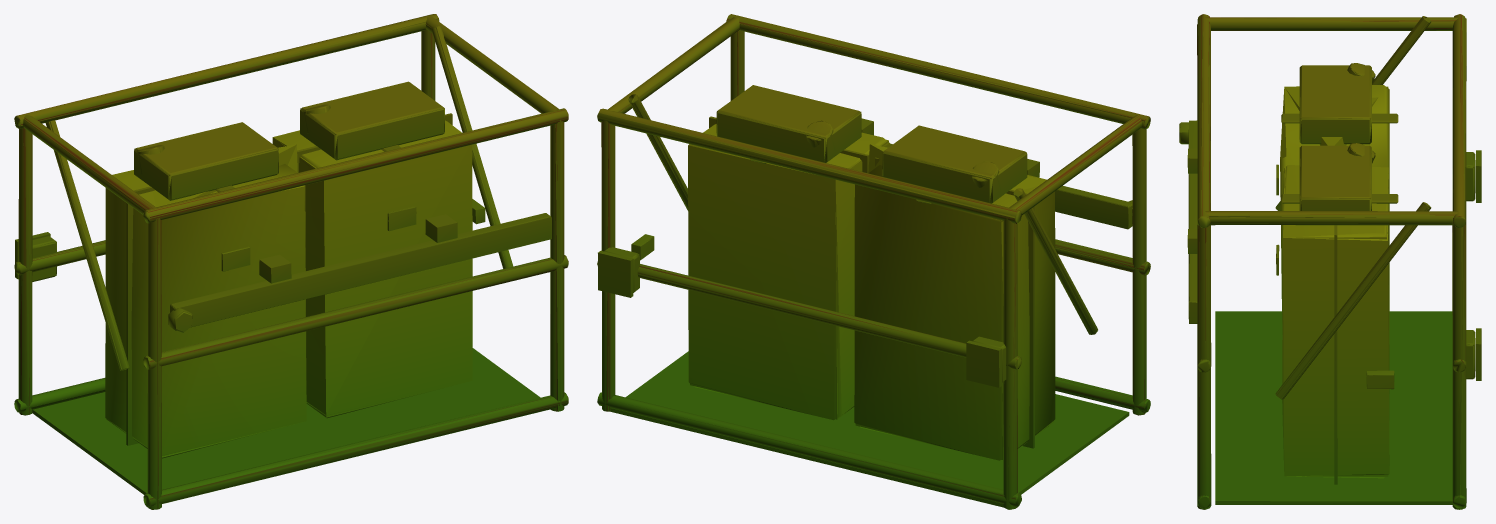
Rendered from RCLModule_scout_tank_gunmetal_chassis_fueldrums_LODs.fbx.
3 views of the same model, side by side, from view 1: azimuth 30°, elevation 25°; view 2: azimuth 150°, elevation 25°; view 3: azimuth 270°, elevation 25° (orthographic).
Parts seen in each view (by area): view 1: LOD1_RCLModule_scout_tank_gunmetal_chassis_fueldrums_Batch_R (×3), LOD2_RCLModule_scout_tank_gunmetal_chassis_fueldrums_Batch_R (×2); view 2: LOD1_RCLModule_scout_tank_gunmetal_chassis_fueldrums_Batch_R (×2), LOD2_RCLModule_scout_tank_gunmetal_chassis_fueldrums_Batch_R (×2); view 3: LOD1_RCLModule_scout_tank_gunmetal_chassis_fueldrums_Batch_R (×3), LOD2_RCLModule_scout_tank_gunmetal_chassis_fueldrums_Batch_R (×2).
Part boxes in pixels (box(x1,y1,x2,y2)): LOD1_RCLModule_scout_tank_gunmetal_chassis_fueldrums_Batch_R (×3): box(14, 14, 568, 509); LOD2_RCLModule_scout_tank_gunmetal_chassis_fueldrums_Batch_R (×2): box(14, 14, 568, 509); LOD1_RCLModule_scout_tank_gunmetal_chassis_fueldrums_Batch_R (×2): box(597, 14, 1150, 509); LOD2_RCLModule_scout_tank_gunmetal_chassis_fueldrums_Batch_R (×2): box(597, 14, 1150, 509); LOD1_RCLModule_scout_tank_gunmetal_chassis_fueldrums_Batch_R (×3): box(1179, 14, 1481, 509); LOD2_RCLModule_scout_tank_gunmetal_chassis_fueldrums_Batch_R (×2): box(1180, 14, 1474, 509).
Size of the model in its own units: 60.3 by 41.58 by 37.86.
